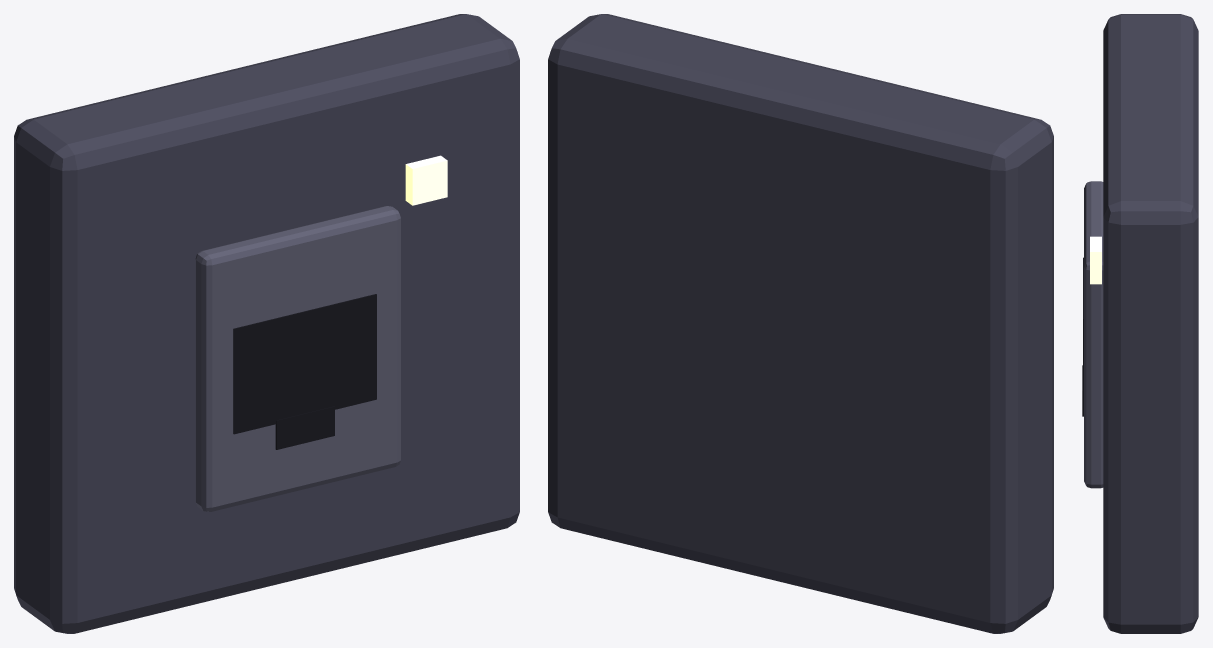
Rendered from rj45-jack.glb.
The picture shows the model from 3 angles, left to right: view 1: azimuth 30°, elevation 25°; view 2: azimuth 150°, elevation 25°; view 3: azimuth 270°, elevation 25°; orthographic projection. The views are drawn at different scales.
Visible parts, largest first — view 1: rj45-jack; view 2: rj45-jack; view 3: rj45-jack.
Boxes of the visible parts, left/top/right/bottom form: rj45-jack: left=14, top=14, right=519, bottom=633; rj45-jack: left=548, top=14, right=1053, bottom=633; rj45-jack: left=1082, top=14, right=1198, bottom=633.
Bounding box in the file's own units: 1 × 1 × 0.2438.
